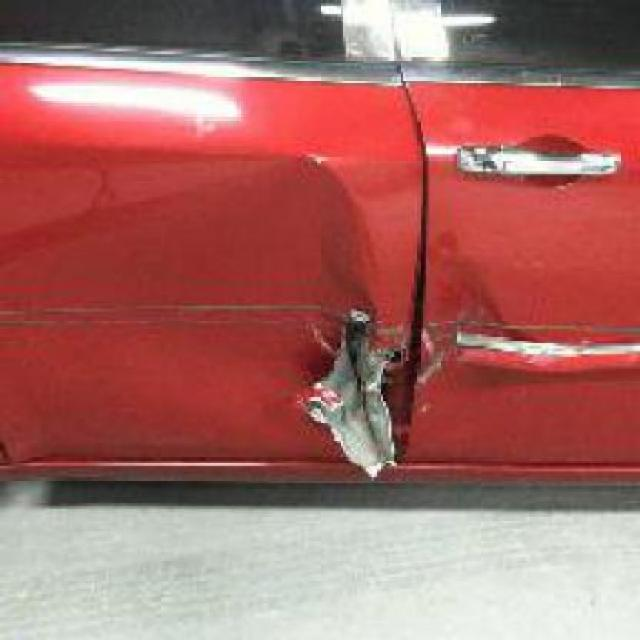damaged-door: (0, 1, 418, 484)
